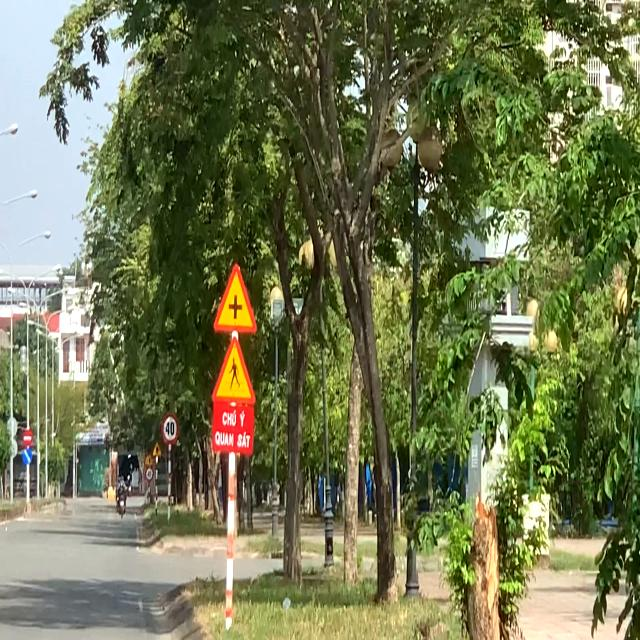P.102: (22, 426, 35, 446)
P.127: (160, 412, 180, 444)
R.302a: (21, 446, 34, 468)
W.205a: (210, 256, 259, 338)
W.224: (211, 333, 256, 408)
